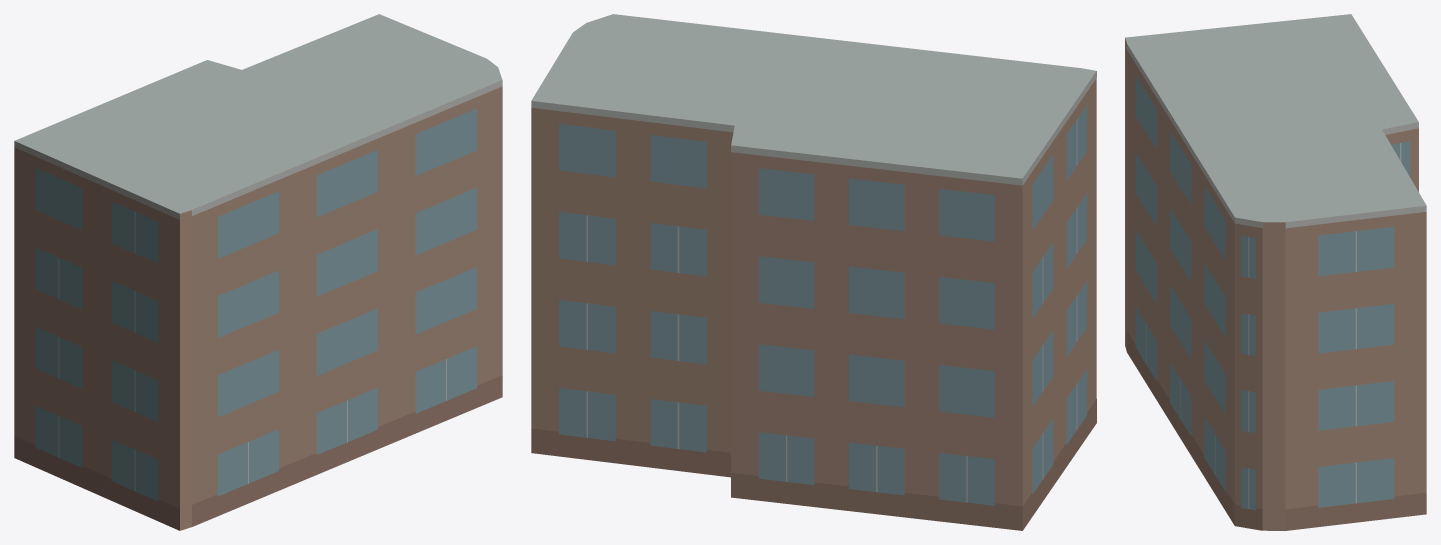
Rendered from survey-upis-32561539.glb.
3 views of the same model, side by side, from view 1: azimuth 30°, elevation 25°; view 2: azimuth 150°, elevation 25°; view 3: azimuth 270°, elevation 25° (orthographic). The views are drawn at different scales.
Parts seen in each view (by area): view 1: survey-upis-32561539.tmp; view 2: survey-upis-32561539.tmp; view 3: survey-upis-32561539.tmp.
Boxes of the visible parts, x1=… form: survey-upis-32561539.tmp: x1=14, y1=14, x2=502, y2=530; survey-upis-32561539.tmp: x1=531, y1=14, x2=1096, y2=530; survey-upis-32561539.tmp: x1=1125, y1=14, x2=1426, y2=530.
Size of the model in its own units: 18.11 by 12.5 by 11.08.
